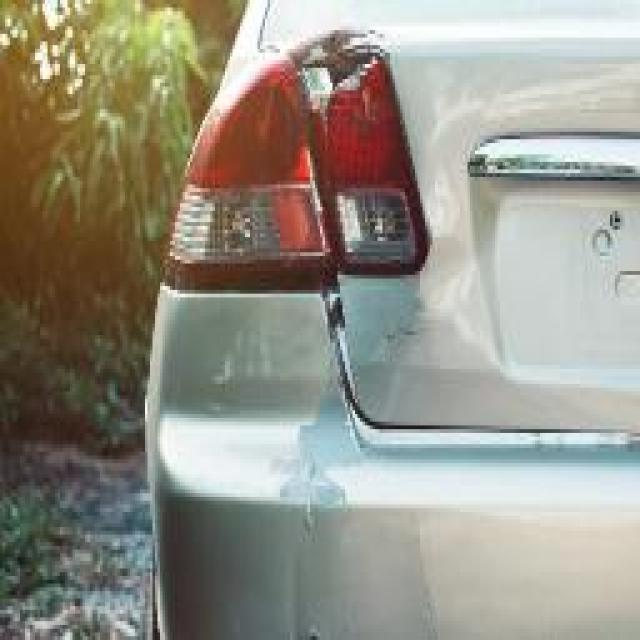Bumper: (278, 301, 365, 640)
Dickey: (372, 90, 520, 418)
Light: (308, 56, 425, 264)
